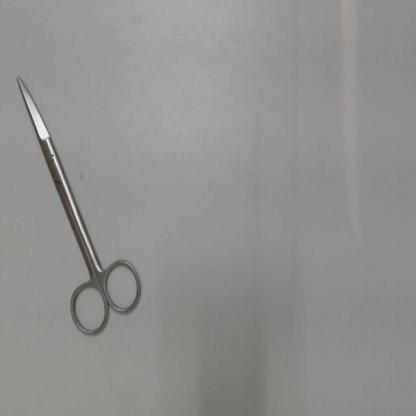Curved Mayo Scissors: (10, 69, 149, 349)
